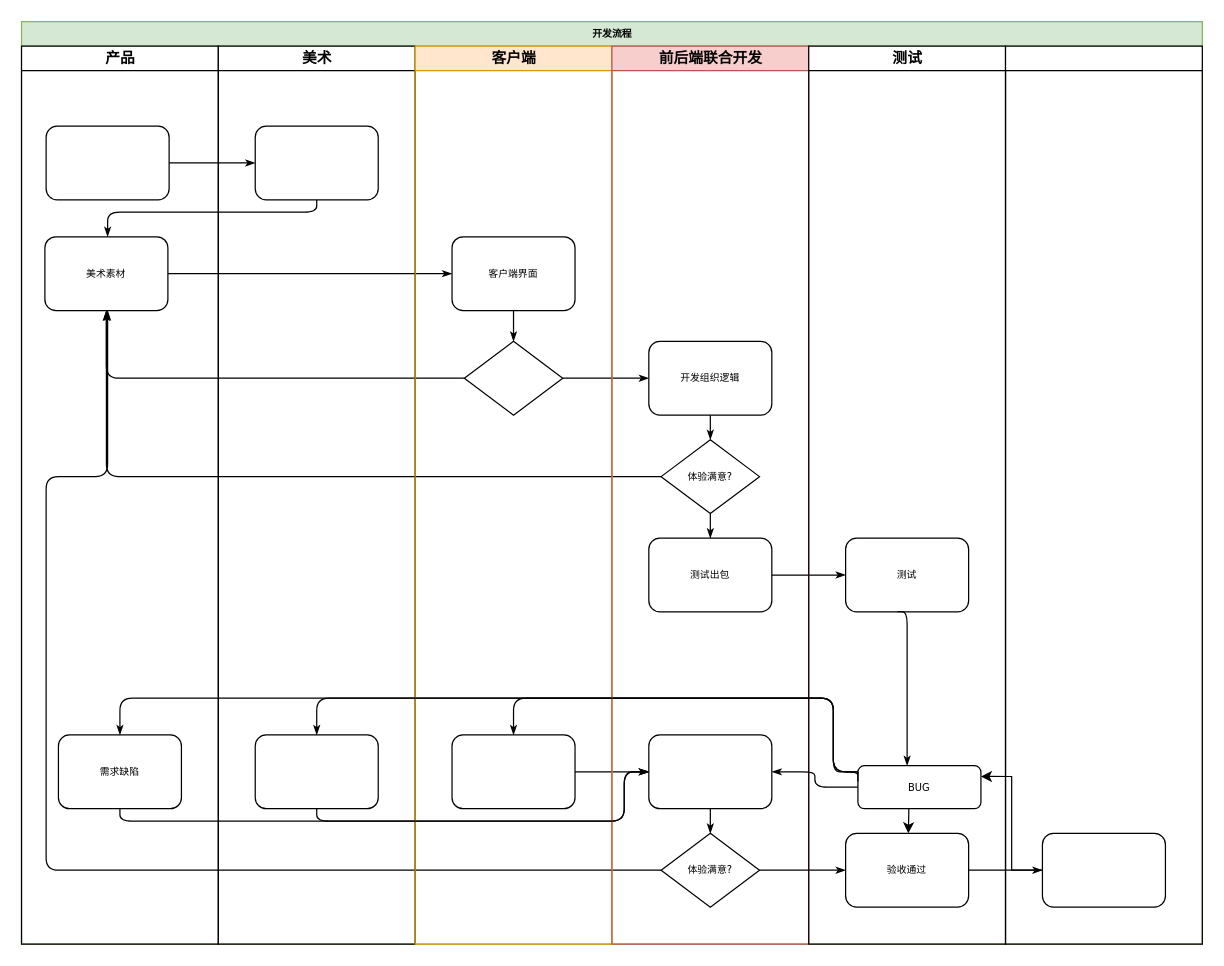
This 1224x966 diagram has some shape labels left out. Here are the shapes that lost their labels. From the top down, the box of each, then its label:
(45, 125, 169, 200): 需求
(254, 125, 378, 200): 效果图
(463, 340, 563, 415): 满意?
(1004, 45, 1202, 944): 渠道
(254, 734, 378, 809): 素材缺陷
(451, 734, 575, 809): 业务逻辑缺陷
(648, 734, 772, 809): 重新组织逻辑
(1041, 832, 1165, 907): 发布
